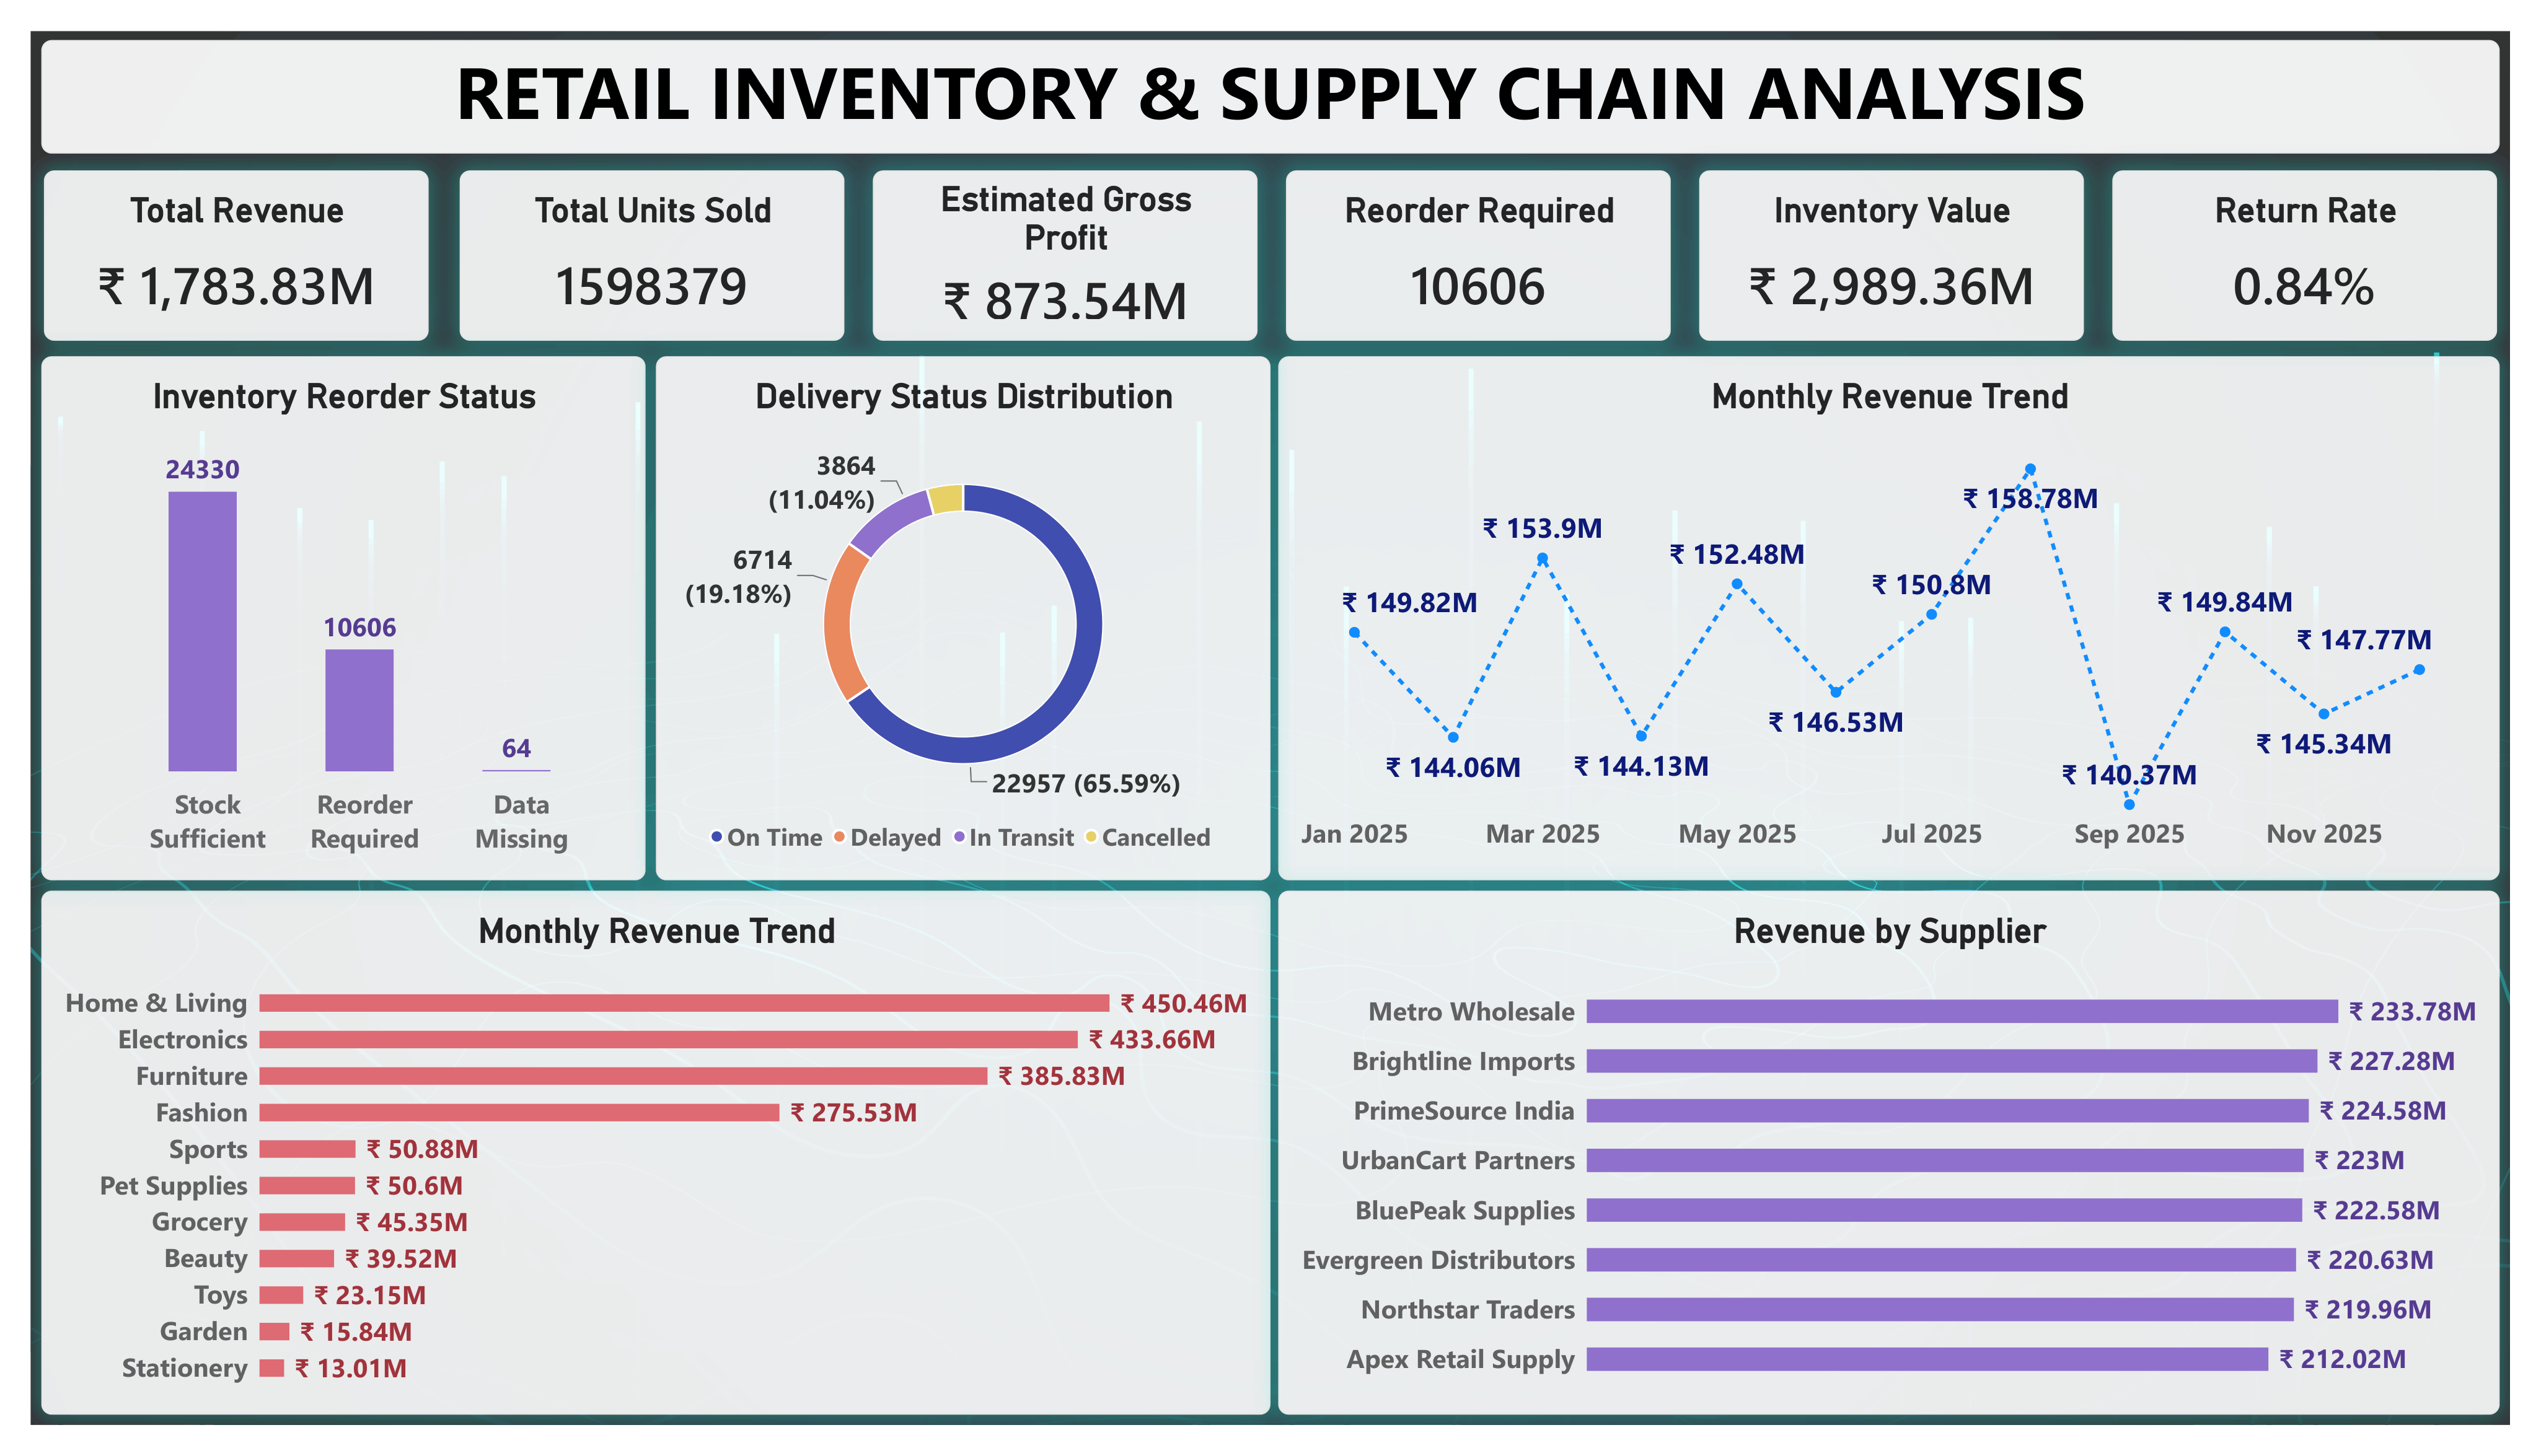

Layout of this report page (visuals, bound fields, positions):
{"tool":"powerbi","page":{"name":"Page 1","canvas":[1920,1080],"ordinal":0},"visuals":[{"type":"card","title":"Total Revenue","fields":{"Values":["retail_inventory.Total Revenue"]},"box":[10,108,298,132],"z":0},{"type":"card","title":"Total Units Sold","fields":{"Values":["retail_inventory.Total Units Sold"]},"box":[332,108,298,132],"z":1000},{"type":"card","title":"Estimated Gross Profit","fields":{"Values":["retail_inventory.Estimated Gross Profit"]},"box":[652,108,298,132],"z":2000},{"type":"card","title":"Reorder Required","fields":{"Values":["retail_inventory.Reorder Required Records"]},"box":[972,108,298,132],"z":3000},{"type":"lineChart","title":"Monthly Revenue Trend","fields":{"Category":["retail_inventory.order_date.Variation.Date Hierarchy.Year","retail_inventory.order_date.Variation.Date Hierarchy.Month"],"Y":["retail_inventory.Total Revenue"]},"box":[966,252,946,406],"z":4000},{"type":"clusteredBarChart","title":"Monthly Revenue Trend","fields":{"Category":["retail_inventory.category"],"Y":["retail_inventory.Total Revenue"]},"box":[8,666,952,406],"z":5000},{"type":"clusteredColumnChart","title":"Inventory Reorder Status","fields":{"Category":["retail_inventory.Stock Status"],"Y":["CountNonNull(retail_inventory.record_id)"]},"box":[8,252,468,406],"z":6000},{"type":"donutChart","title":"Delivery Status Distribution","fields":{"Category":["retail_inventory.delivery_status"],"Y":["CountNonNull(retail_inventory.record_id)"]},"box":[484,252,476,406],"z":7000},{"type":"clusteredBarChart","title":"Revenue by Supplier","fields":{"Category":["retail_inventory.supplier_name"],"Y":["retail_inventory.Total Revenue"]},"box":[966,666,946,406],"z":8000},{"type":"textbox","box":[8,7,1904,88],"z":9000},{"type":"card","title":"Inventory Value","fields":{"Values":["retail_inventory.Inventory Value"]},"box":[1292,108,298,132],"z":9001},{"type":"card","title":"Return Rate","fields":{"Values":["retail_inventory.Return Rate (%)"]},"box":[1612,108,298,132],"z":9002}]}

Visuals, with their boxes in screenshot pixels (x1, y1, x2, y2):
"Total Revenue" card: (26,160,415,333)
"Total Units Sold" card: (447,160,835,333)
"Estimated Gross Profit" card: (864,160,1253,333)
"Reorder Required" card: (1282,160,1671,333)
"Monthly Revenue Trend" lineChart: (1274,349,2509,879)
"Monthly Revenue Trend" clusteredBarChart: (24,889,1266,1419)
"Inventory Reorder Status" clusteredColumnChart: (24,349,635,879)
"Delivery Status Distribution" donutChart: (645,349,1266,879)
"Revenue by Supplier" clusteredBarChart: (1274,889,2509,1419)
textbox: (24,29,2509,144)
"Inventory Value" card: (1699,160,2089,333)
"Return Rate" card: (2117,160,2506,333)
